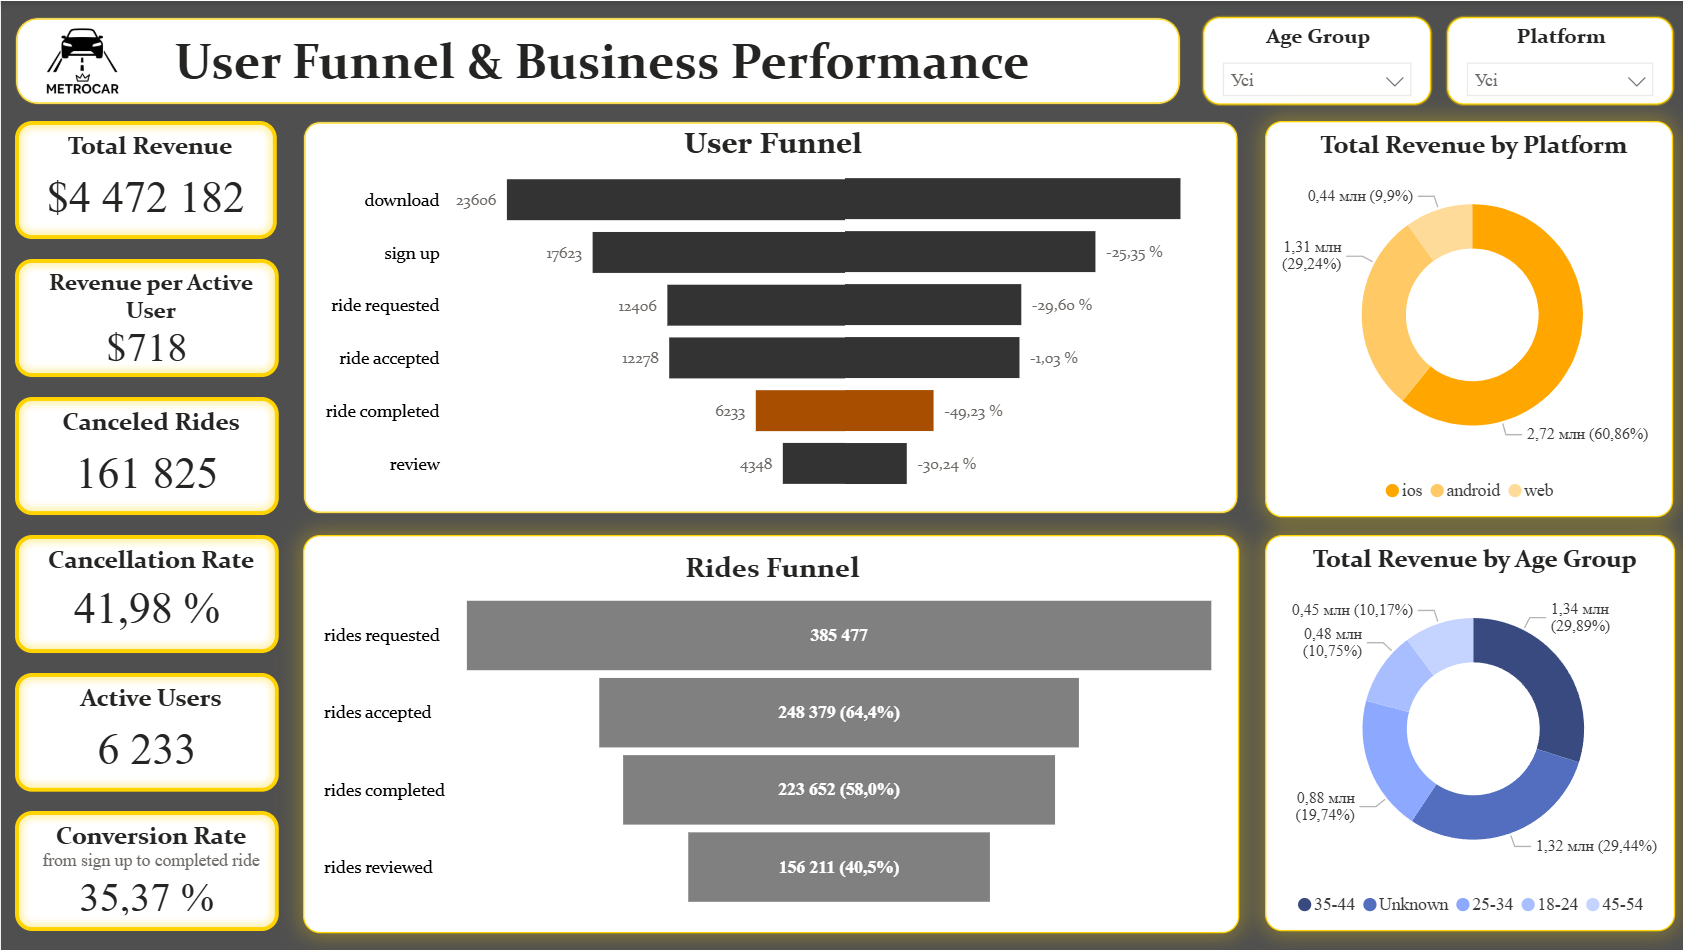

Layout of this report page (visuals, bound fields, positions):
{"tool":"powerbi","page":{"name":"User Funnel & Business Performance","canvas":[1280,720],"ordinal":0},"visuals":[{"type":"shape","box":[10.6,12.1,884.2,66.7],"z":0,"group":"g2"},{"type":"shape","box":[229,91.7,709.4,298],"z":0,"group":"g4"},{"type":"funnel","title":"Rides Funnel","fields":{"Y":["Sum(Rides Funnel, Total Purchase.rides_requested)","Sum(Rides Funnel, Total Purchase.rides_accepted)","Sum(Rides Funnel, Total Purchase.rides_completed)","Sum(Rides Funnel, Total Purchase.rides_reviewed)"]},"box":[229,404.9,709.8,301.8],"z":0},{"type":"textbox","box":[28.6,18.1,853.8,55.9],"z":1000,"group":"g2"},{"type":"card","title":"Total Revenue","fields":{"Values":["Rides Funnel.Total Revenue"]},"box":[10.6,91,198.7,89.5],"z":1000},{"type":"slicer","title":"Platform","fields":{"Values":["UserAttributes.Platform"]},"box":[1096.5,12.1,171.4,66.7],"z":2000},{"type":"slicer","title":"Age Group","fields":{"Values":["UserAttributes.AgeGroup"]},"box":[911.5,12.1,172.9,66.7],"z":3000},{"type":"group","id":"g1","title":"Група 1","box":[230.5,105.7,711.5,281.9],"z":3000,"group":"g3"},{"type":"card","title":"Revenue per Active User","fields":{"Values":["Rides Funnel.Revenue per Active User"]},"box":[10.6,195.5,200.2,89.5],"z":4000},{"type":"clusteredBarChart","fields":{"Category":["Try.funnel_name"],"Y":["Sum(Try.nr_of_users)"]},"box":[230.5,105.7,409.6,281.9],"z":5000,"group":"g1"},{"type":"card","title":"Active Users","fields":{"Values":["Users Funnel.Active Users"]},"box":[10.6,509.2,200.2,90],"z":5000},{"type":"card","title":"Conversion Rate","fields":{"Values":["Users Funnel.Conversion Rate"]},"box":[10.6,614.2,200.2,91],"z":6000},{"type":"card","title":"Canceled Rides","fields":{"Values":["Rides Funnel.Canceled Rides"]},"box":[10.6,300.1,200.2,89.5],"z":7000},{"type":"clusteredBarChart","fields":{"Category":["Try.funnel_name"],"Y":["Sum(Try.nr_of_users)"]},"box":[640.6,121,301.4,251],"z":8000,"group":"g1"},{"type":"card","title":"Cancellation Rate","fields":{"Values":["Rides Funnel.Try"]},"box":[10.6,404.6,200.2,89.5],"z":8000},{"type":"donutChart","title":"Total Revenue by Age Group","fields":{"Y":["Rides Funnel.Total_Revenue"],"Category":["Rides Funnel.age_range"]},"box":[958.5,404.9,310.9,300.3],"z":9000},{"type":"donutChart","title":"Total Revenue by Platform","fields":{"Y":["Rides Funnel.Total Revenue"],"Category":["Rides Funnel.platform"]},"box":[958.5,91,309.4,300.3],"z":10000},{"type":"textbox","box":[230.5,91,709.4,36.7],"z":10005,"group":"g3"},{"type":"group","id":"g2","title":"Група 3","box":[10.6,12.1,884.2,66.7],"z":11000},{"type":"group","id":"g3","title":"Група 2","box":[230.5,91,711.5,296.6],"z":11000,"group":"g4"},{"type":"image","box":[15.2,9.1,95.5,74.3],"z":12000},{"type":"group","id":"g4","title":"Група 4","box":[229,91,713,298.8],"z":13000}]}

Visuals, with their boxes in screenshot pixels (x1, y1, x2, y2), scaled from the page's 1280x720 canvas onto the 1683x950 screenshot:
shape: <bbox>14, 16, 1177, 104</bbox>
shape: <bbox>301, 121, 1234, 514</bbox>
"Rides Funnel" funnel: <bbox>301, 534, 1234, 932</bbox>
textbox: <bbox>38, 24, 1160, 98</bbox>
"Total Revenue" card: <bbox>14, 120, 275, 238</bbox>
"Platform" slicer: <bbox>1442, 16, 1667, 104</bbox>
"Age Group" slicer: <bbox>1198, 16, 1426, 104</bbox>
"Група 1" group: <bbox>303, 139, 1239, 511</bbox>
"Revenue per Active User" card: <bbox>14, 258, 277, 376</bbox>
clusteredBarChart - Try.funnel_name x Sum(Try.nr_of_users): <bbox>303, 139, 842, 511</bbox>
"Active Users" card: <bbox>14, 672, 277, 791</bbox>
"Conversion Rate" card: <bbox>14, 810, 277, 930</bbox>
"Canceled Rides" card: <bbox>14, 396, 277, 514</bbox>
clusteredBarChart - Try.funnel_name x Sum(Try.nr_of_users): <bbox>842, 160, 1239, 491</bbox>
"Cancellation Rate" card: <bbox>14, 534, 277, 652</bbox>
"Total Revenue by Age Group" donutChart: <bbox>1260, 534, 1669, 930</bbox>
"Total Revenue by Platform" donutChart: <bbox>1260, 120, 1667, 516</bbox>
textbox: <bbox>303, 120, 1236, 168</bbox>
"Група 3" group: <bbox>14, 16, 1177, 104</bbox>
"Група 2" group: <bbox>303, 120, 1239, 511</bbox>
image: <bbox>20, 12, 146, 110</bbox>
"Група 4" group: <bbox>301, 120, 1239, 514</bbox>
